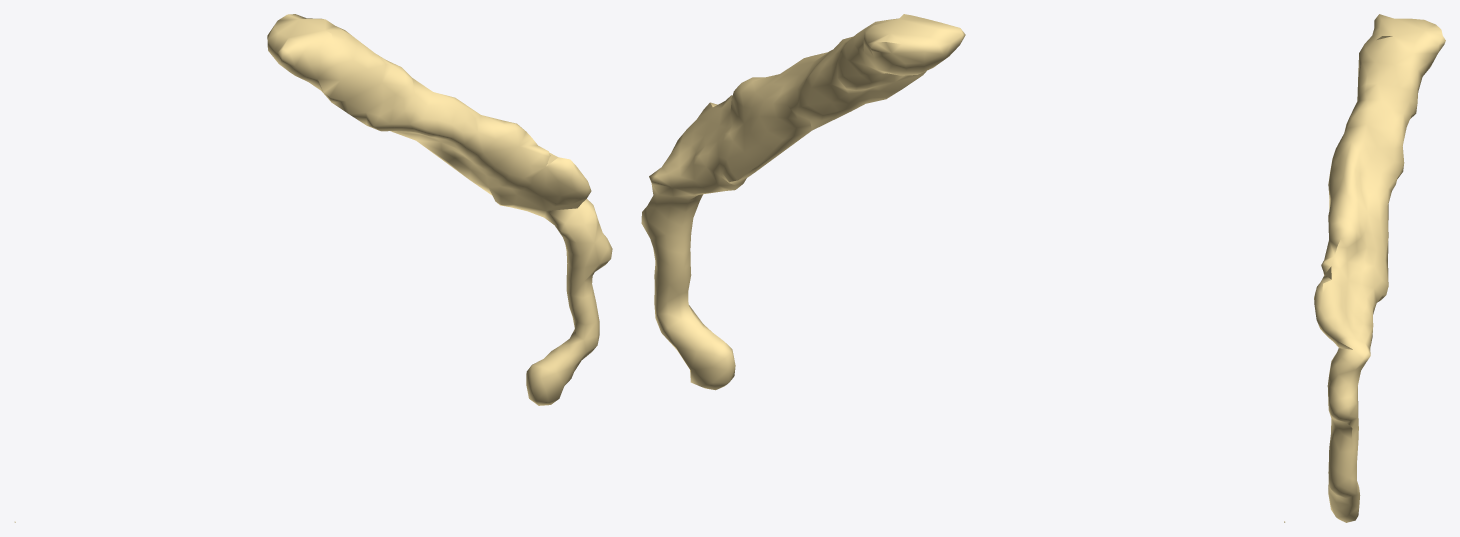
Rendered from spl-216.glb.
3 views of the same model, side by side, from view 1: azimuth 30°, elevation 25°; view 2: azimuth 150°, elevation 25°; view 3: azimuth 270°, elevation 25° (orthographic). The views are drawn at different scales.
Visible parts, largest first — view 1: spl-216; view 2: spl-216; view 3: spl-216.
Boxes of the visible parts, x1,y1,x2,y2 form: spl-216: (14, 14, 612, 522); spl-216: (641, 14, 1285, 522); spl-216: (1314, 14, 1445, 522).
Size of the model in its own units: 44.56 by 29.1 by 8.89.
